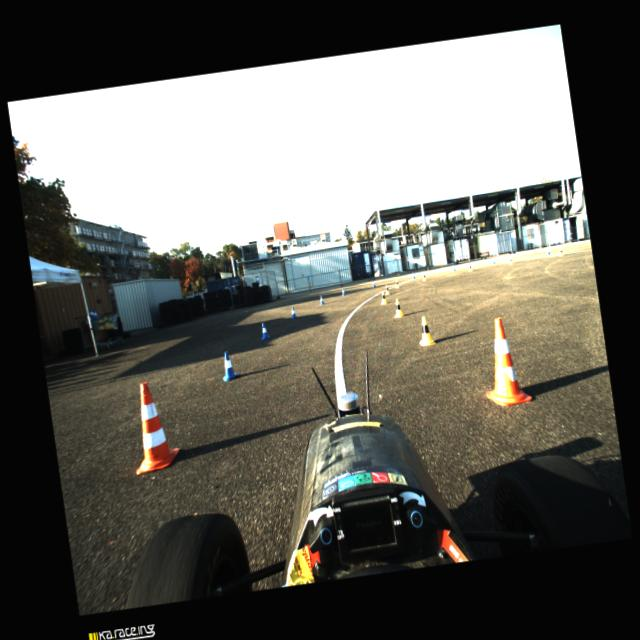blue_cone: (220, 351, 238, 381), (259, 322, 271, 340), (290, 306, 297, 318), (318, 295, 324, 305), (544, 246, 550, 255), (410, 272, 416, 279), (341, 288, 346, 296), (452, 264, 456, 272), (372, 280, 376, 287), (492, 258, 496, 264)
large_orange_cone: (124, 380, 181, 474), (476, 315, 532, 408)
yellow_cone: (416, 316, 436, 346), (392, 298, 404, 318), (379, 292, 388, 304), (384, 284, 390, 294), (558, 246, 564, 256), (467, 264, 473, 272), (394, 279, 399, 288), (508, 256, 513, 264), (422, 274, 426, 281)
